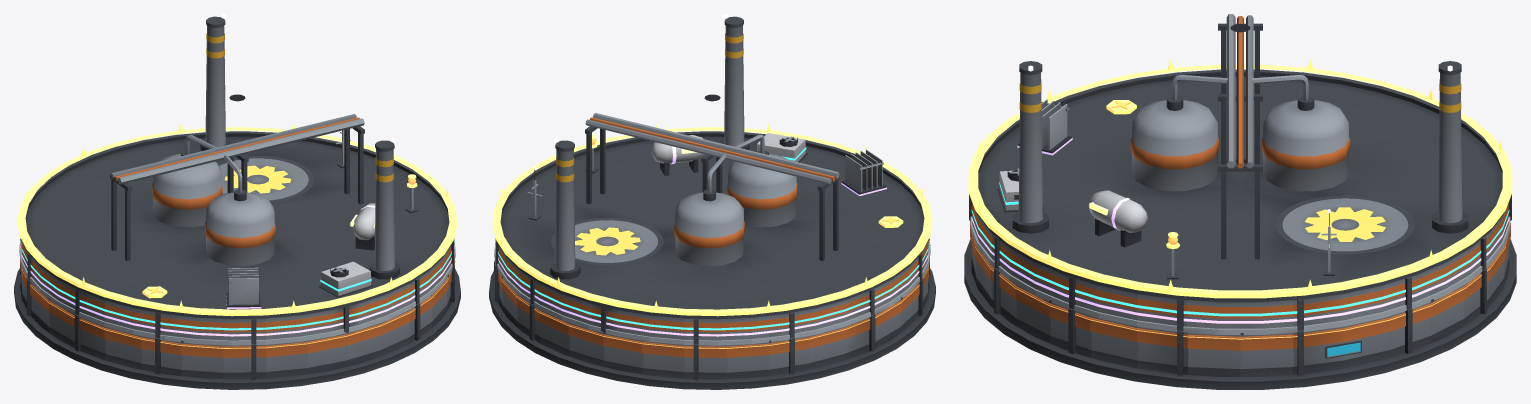
The model's file is polymer_plant_m.glb.
3 views of the same model, side by side, from view 1: azimuth 30°, elevation 25°; view 2: azimuth 150°, elevation 25°; view 3: azimuth 270°, elevation 25° (orthographic). The views are drawn at different scales.
Visible parts, largest first — view 1: Roof, Base, L4, Wall_21, Wall_20, Wall_22, Wall_19, Wall_23, L3, Wall_18, Wall_24, Wall_17 (+20 smaller); view 2: Roof, Base, L4, Wall_10, Wall_11, Wall_09, Wall_12, Wall_08, Wall_13, Wall_07, Wall_14, Wall_06 (+19 smaller); view 3: Roof, Base, L4, Wall_00, Wall_31, Wall_30, Wall_29, Wall_01, Wall_02, Wall_28, Wall_03, Wall_04 (+24 smaller).
Part boxes in pixels (x1,y1,x2,y2): Roof: [25, 14, 451, 319]; Base: [14, 268, 460, 389]; L4: [226, 203, 375, 308]; Wall_21: [223, 344, 265, 380]; Wall_20: [181, 340, 223, 378]; Wall_22: [265, 340, 307, 378]; Wall_19: [141, 336, 181, 375]; Wall_23: [307, 333, 346, 374]; L3: [318, 261, 372, 297]; Wall_18: [104, 327, 141, 369]; Wall_24: [346, 323, 381, 366]; Wall_17: [73, 314, 105, 360]; Roof: [498, 14, 924, 319]; Base: [489, 268, 935, 389]; L4: [651, 135, 886, 196]; Wall_10: [684, 344, 726, 380]; Wall_11: [726, 342, 768, 378]; Wall_09: [642, 340, 684, 378]; Wall_12: [768, 336, 808, 375]; Wall_08: [603, 332, 642, 374]; Wall_13: [808, 327, 845, 369]; Wall_07: [568, 323, 603, 366]; Wall_14: [844, 314, 876, 360]; Wall_06: [539, 310, 569, 356]; Roof: [976, 14, 1504, 302]; Base: [964, 239, 1516, 389]; L4: [1017, 99, 1147, 247]; Wall_00: [1240, 333, 1293, 376]; Wall_31: [1187, 333, 1240, 376]; Wall_30: [1137, 327, 1187, 375]; Wall_29: [1090, 316, 1137, 368]; Wall_01: [1293, 327, 1343, 375]; Wall_02: [1343, 316, 1390, 368]; Wall_28: [1049, 299, 1090, 357]; Wall_03: [1390, 302, 1431, 357]; Wall_04: [1430, 285, 1465, 343].
Size of the model in its own units: 14.75 by 7.39 by 14.75.
